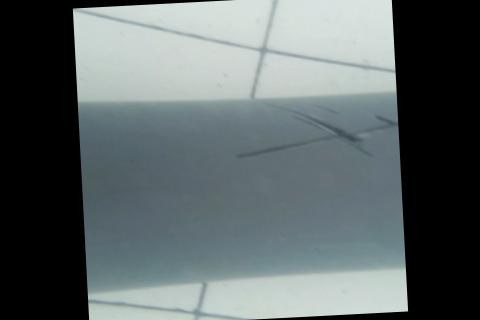keretakan: (233, 98, 400, 166)
